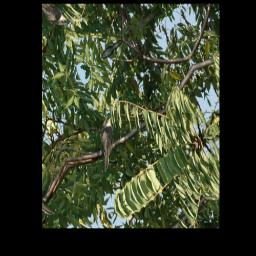Cuckoo: (86, 114, 129, 175)
